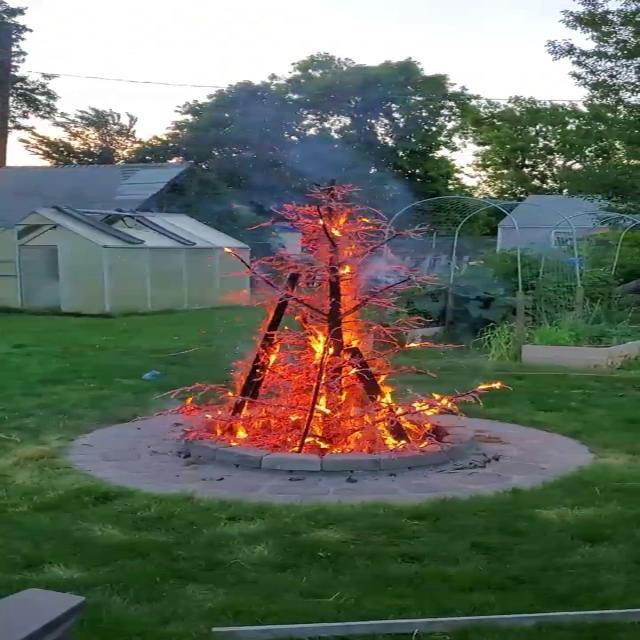Fire: (210, 187, 453, 453)
